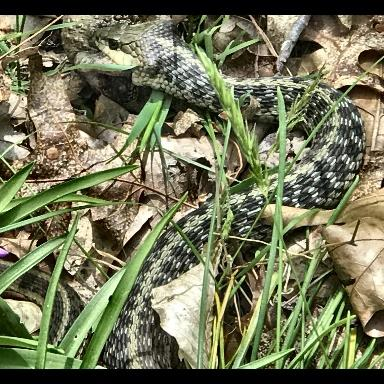snake: (1, 16, 365, 368)
